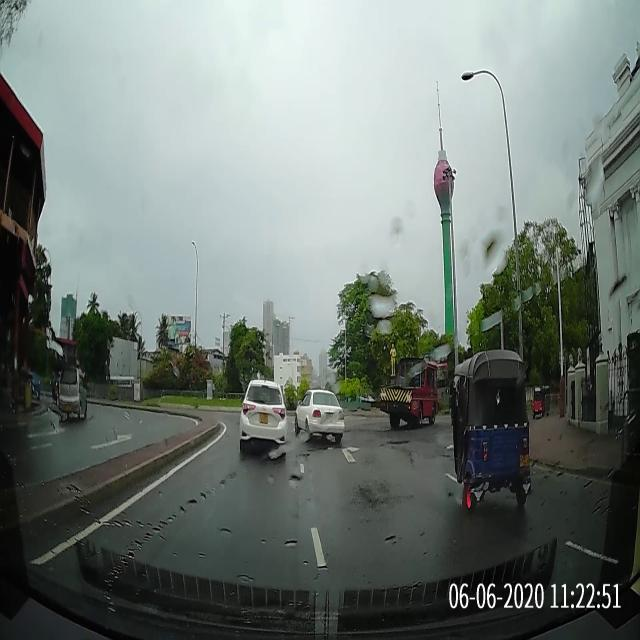Strelka vpravo: (342, 446, 360, 463)
